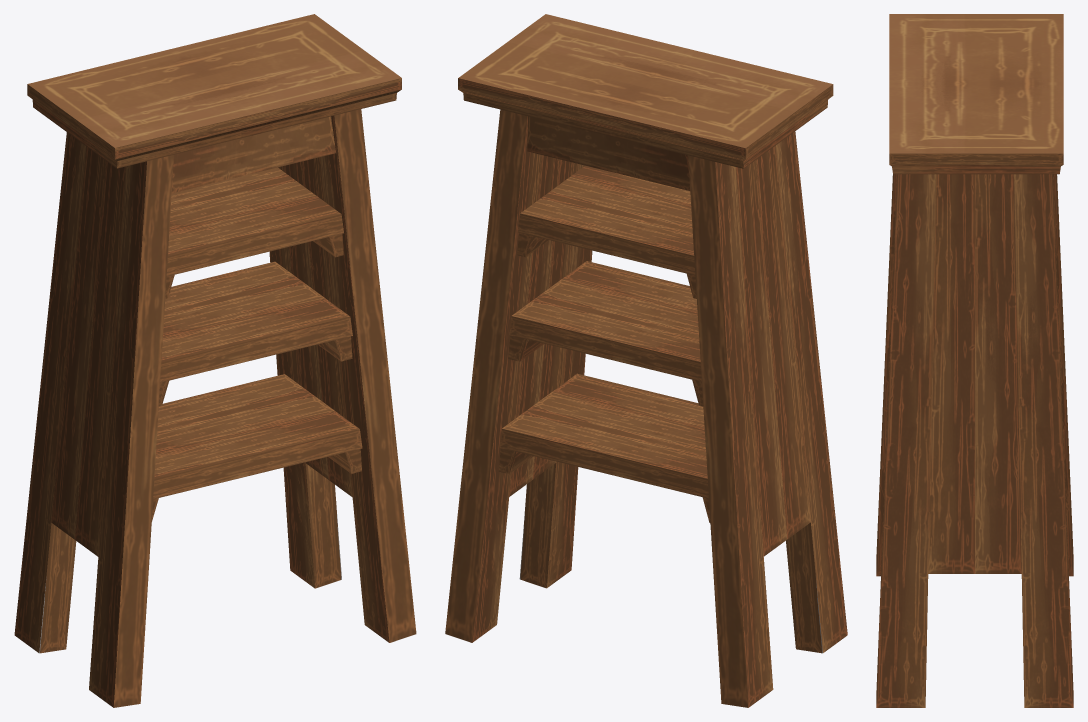
File: Nightstand_Shelf.fbx
The picture shows the model from 3 angles, left to right: view 1: azimuth 30°, elevation 25°; view 2: azimuth 150°, elevation 25°; view 3: azimuth 270°, elevation 25°; orthographic projection.
Visible parts, largest first — view 1: Nightstand_Shelf; view 2: Nightstand_Shelf; view 3: Nightstand_Shelf.
Boxes of the visible parts, <box> form: Nightstand_Shelf: <box>14,14,416,707</box>; Nightstand_Shelf: <box>445,14,847,707</box>; Nightstand_Shelf: <box>876,14,1073,707</box>.
Size of the model in its own units: 69.33 by 122 by 39.35.
